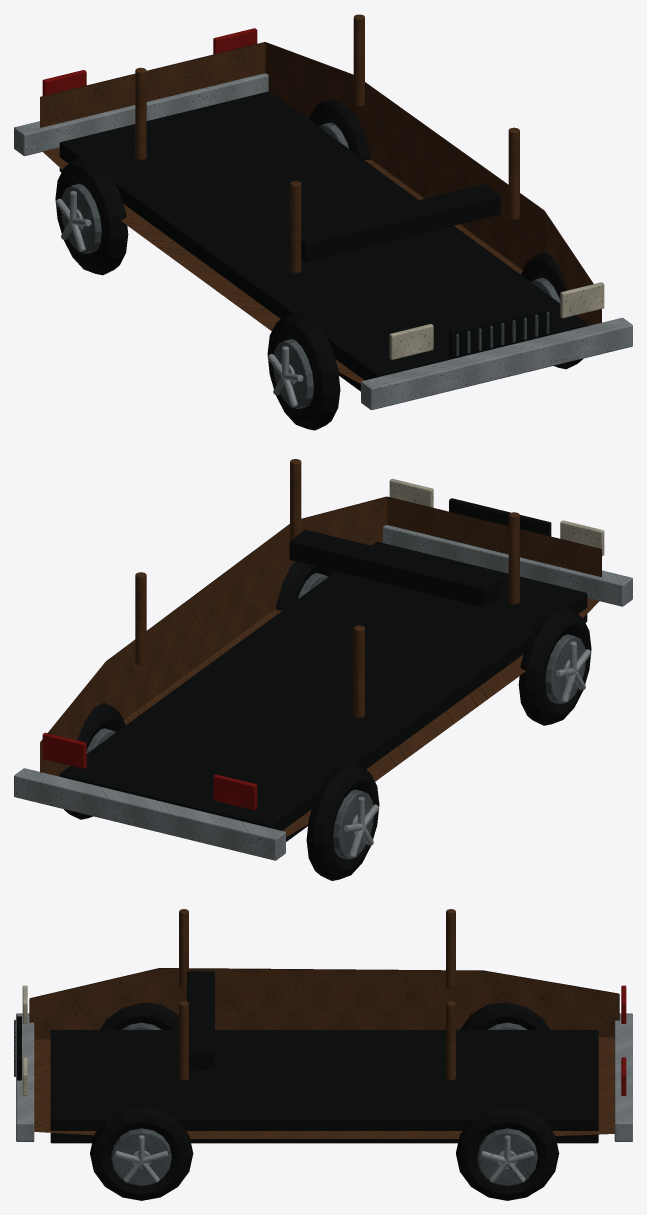
File: PROP-D786E7CC7187_lod0.glb
3 views of the same model, one above another, from view 1: azimuth 30°, elevation 25°; view 2: azimuth 150°, elevation 25°; view 3: azimuth 270°, elevation 25° (orthographic). The views are drawn at different scales.
Parts seen in each view (by area): view 1: chassis.001, shaped_body_panels.001, bumper.001, tire.001, dashboard.001, empty_cabin_frame.001, rim.001, radiator_grille.001, lamp_lenses.002, rim_spokes.001, lamp_lenses.003, grille_slats.001; view 2: chassis.001, shaped_body_panels.001, bumper.001, tire.001, dashboard.001, empty_cabin_frame.001, rim.001, lamp_lenses.003, lamp_lenses.002, rim_spokes.001, radiator_grille.001; view 3: chassis.001, shaped_body_panels.001, tire.001, rim.001, bumper.001, empty_cabin_frame.001, dashboard.001, rim_spokes.001, lamp_lenses.002, lamp_lenses.003.
Boxes of the visible parts, x1,y1,x2,y2 form: chassis.001: (59,91,587,391); shaped_body_panels.001: (40,42,601,383); bumper.001: (14,73,632,410); tire.001: (55,99,582,430); dashboard.001: (289,184,500,261); empty_cabin_frame.001: (135,14,519,273); rim.001: (61,122,560,408); radiator_grille.001: (449,306,551,358); lamp_lenses.002: (389,282,604,359); rim_spokes.001: (55,191,303,407); lamp_lenses.003: (42,28,257,95); grille_slats.001: (456,312,549,356); chassis.001: (59,541,587,841); shaped_body_panels.001: (40,496,601,837); bumper.001: (14,525,632,860); tire.001: (64,561,591,880); dashboard.001: (289,530,500,607); empty_cabin_frame.001: (135,459,519,717); rim.001: (86,573,585,859); lamp_lenses.003: (42,732,257,810); lamp_lenses.002: (389,478,604,556); rim_spokes.001: (343,641,591,857); radiator_grille.001: (449,498,551,536); chassis.001: (50,1030,598,1143); shaped_body_panels.001: (29,968,619,1138); tire.001: (90,1002,559,1200); rim.001: (111,1022,537,1186); bumper.001: (16,1013,632,1141); empty_cabin_frame.001: (179,909,455,1080); dashboard.001: (187,971,214,1069); rim_spokes.001: (114,1135,534,1182); lamp_lenses.002: (22,985,27,1095); lamp_lenses.003: (621,985,626,1095).
Size of the model in its own units: 2.09 by 1.5 by 4.41.
Materials: 7 (7 with a texture image).
